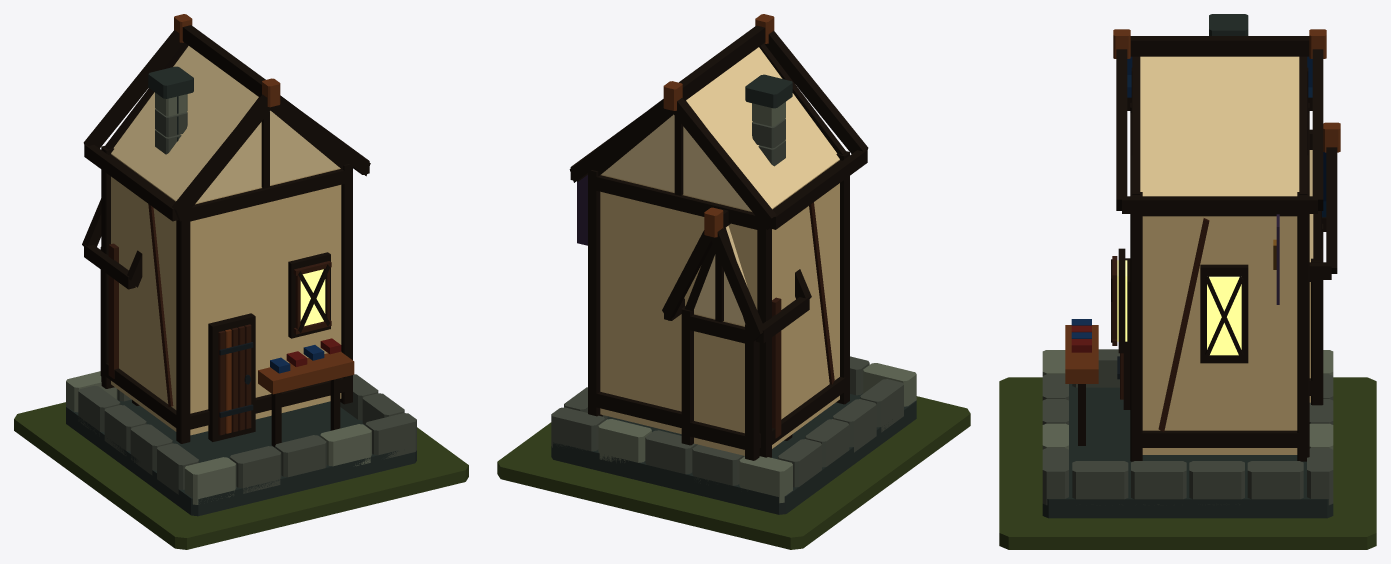
Rendered from scriptorium_t6.glb.
3 renders of one model, left to right at view 1: azimuth 30°, elevation 25°; view 2: azimuth 150°, elevation 25°; view 3: azimuth 270°, elevation 25°, orthographic. The views are drawn at different scales.
Visible parts, largest first — view 1: MMR | scriptorium | T06 Architecture.001, MMR | scriptorium | Tier 06 Ground.001; view 2: MMR | scriptorium | T06 Architecture.001, MMR | scriptorium | Tier 06 Ground.001; view 3: MMR | scriptorium | T06 Architecture.001, MMR | scriptorium | Tier 06 Ground.001.
Boxes of the visible parts, <box> form: MMR | scriptorium | T06 Architecture.001: <box>66,14,416,516</box>; MMR | scriptorium | Tier 06 Ground.001: <box>14,402,468,549</box>; MMR | scriptorium | T06 Architecture.001: <box>551,14,916,514</box>; MMR | scriptorium | Tier 06 Ground.001: <box>497,396,970,549</box>; MMR | scriptorium | T06 Architecture.001: <box>1042,14,1340,518</box>; MMR | scriptorium | Tier 06 Ground.001: <box>999,377,1376,549</box>.
Size of the model in its own units: 1.3 by 1.66 by 1.3.
2 materials, 1 textured.
